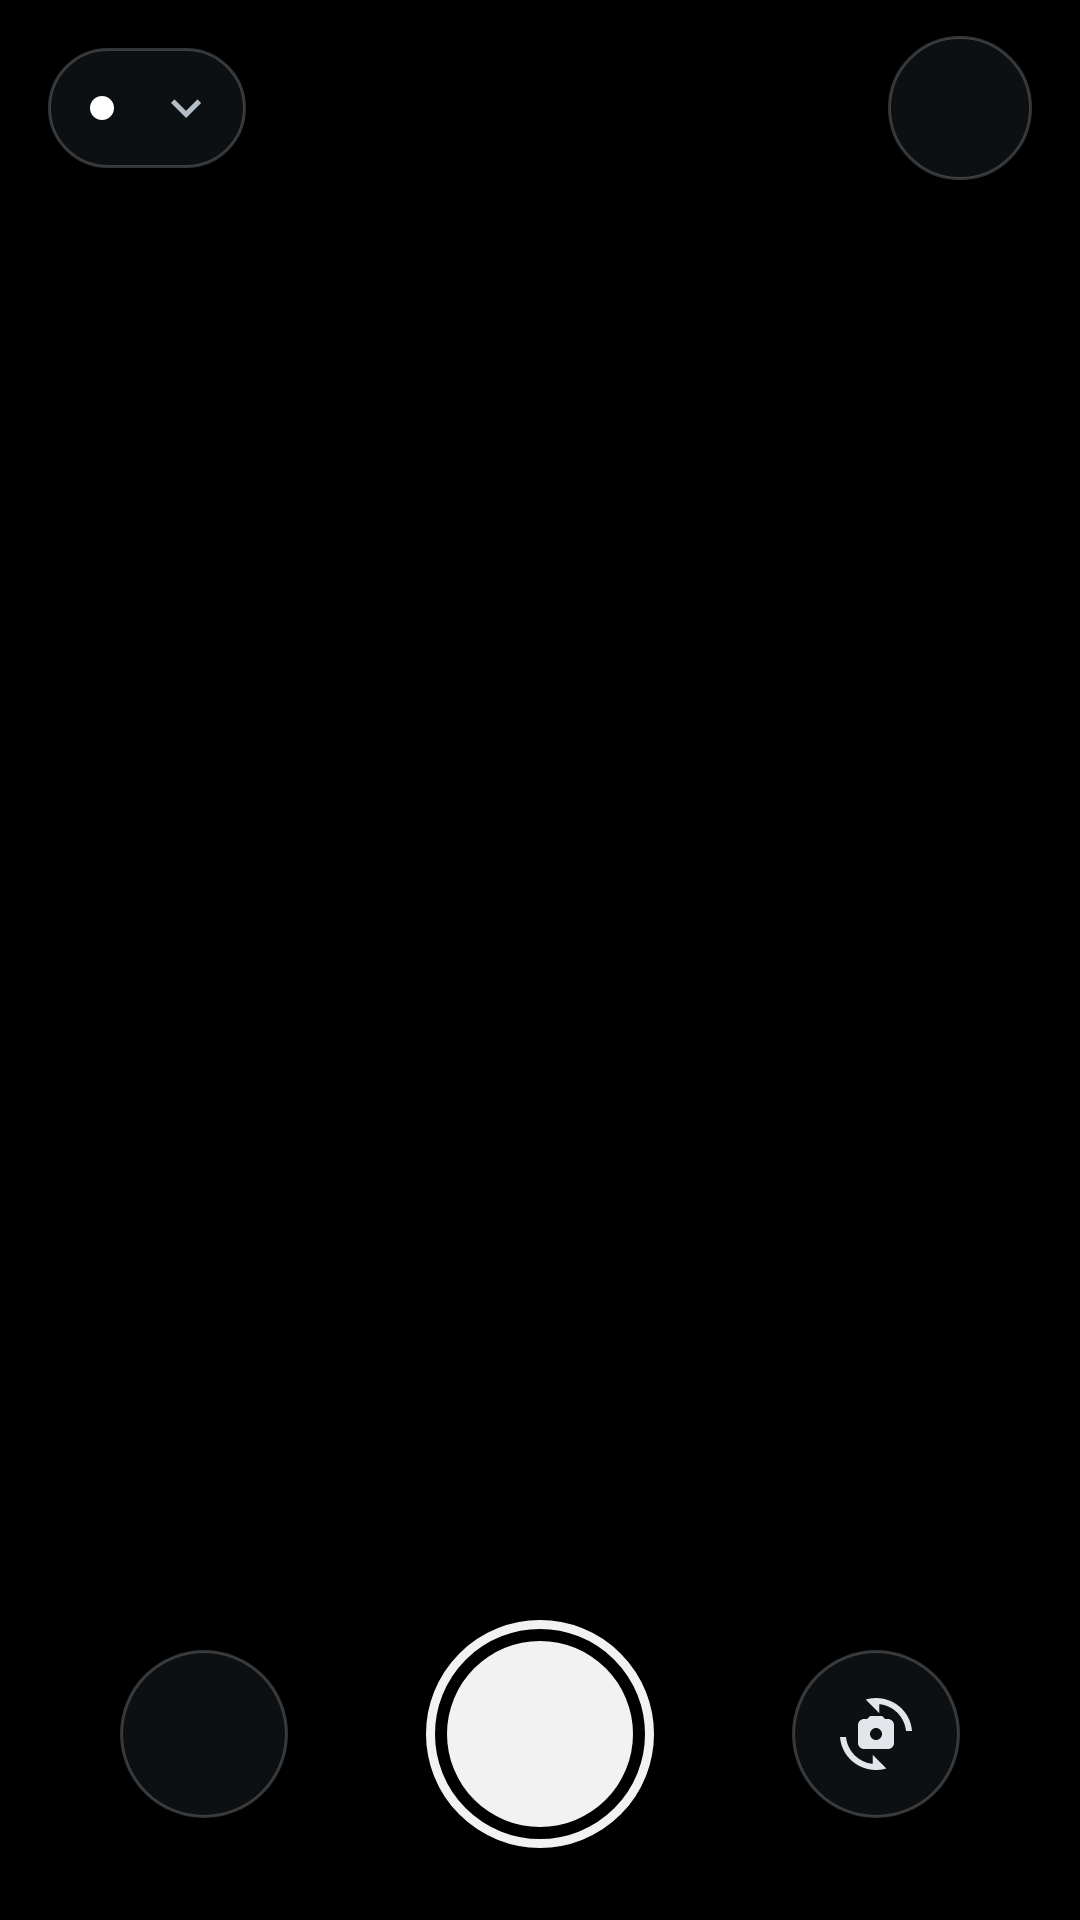

Point at icon controls on the screen. Image size 1080*1920, points as [x,y].
Switch to front camera: [876,1734]
